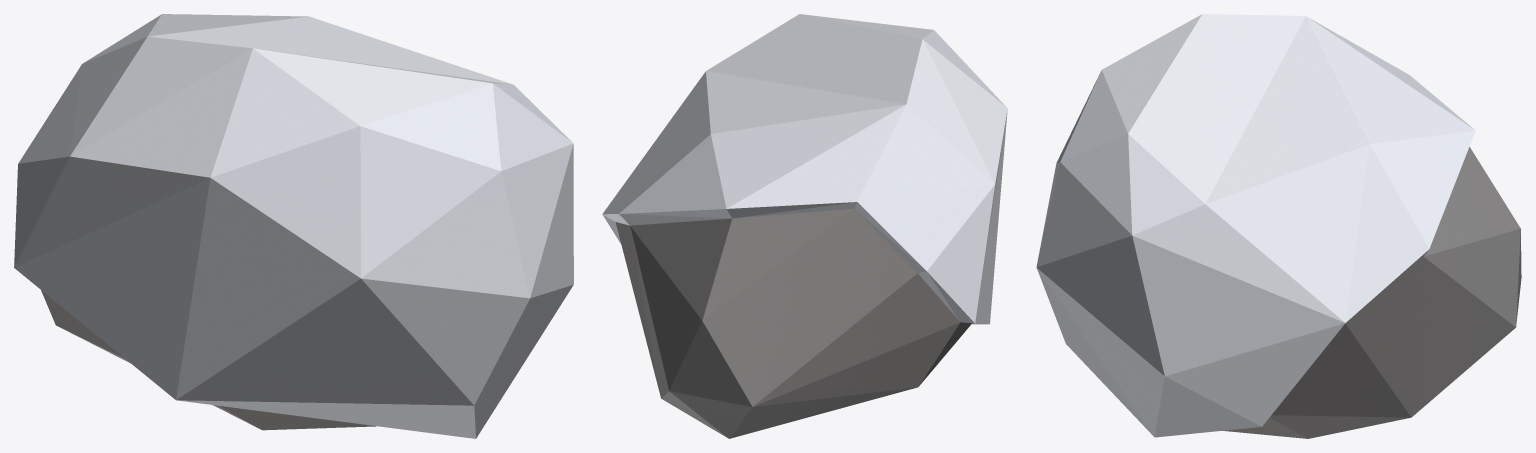
Rendered from Rock_1B.fbx.
3 renders of one model, left to right at view 1: azimuth 30°, elevation 25°; view 2: azimuth 150°, elevation 25°; view 3: azimuth 270°, elevation 25°, orthographic. The views are drawn at different scales.
Visible parts, largest first — view 1: Group64621; view 2: Group64621; view 3: Group64621.
Part boxes in pixels (<box>): Group64621: <box>14,14,573,438</box>; Group64621: <box>602,14,1007,438</box>; Group64621: <box>1036,14,1521,438</box>.
Size of the model in its own units: 1.98 by 1.83 by 2.2.
Materials: 1 (1 with a texture image).
